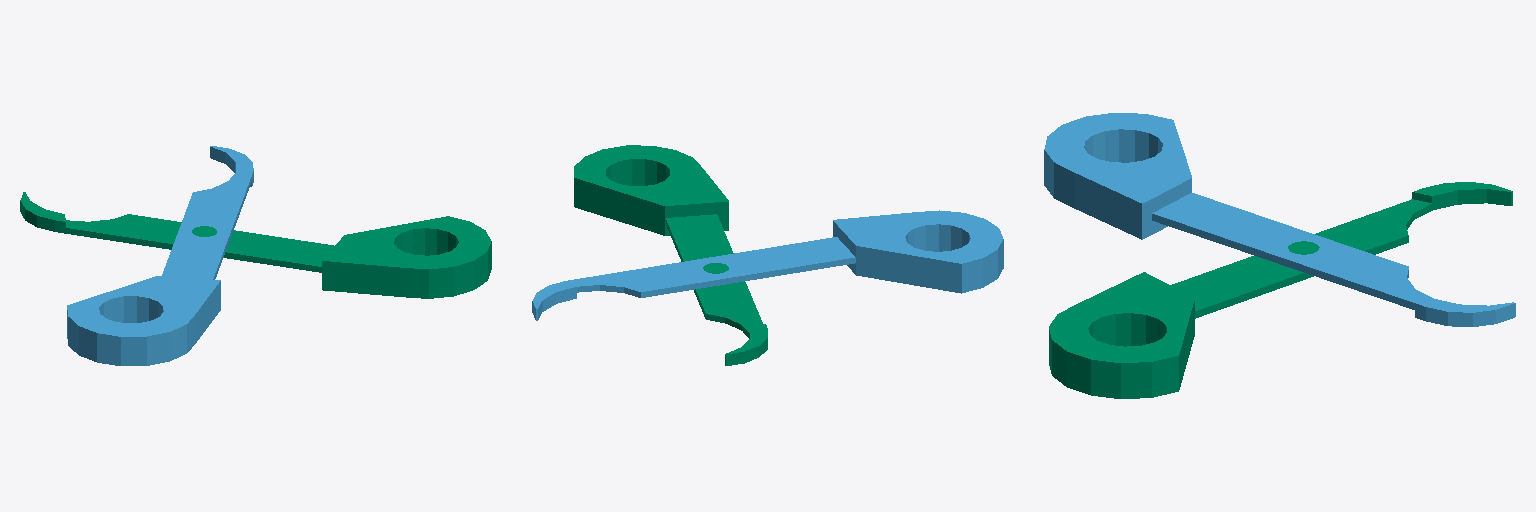
The robot description file, URDF, robot "partnet_u22479855-8ddc-49d6-8559-87b3746aff4b":
<?xml version="1.0" ?>
<robot name="partnet_u22479855-8ddc-49d6-8559-87b3746aff4b">
	<link name="base"/>
	<link name="link_0">
		<visual name="blade-4">
			<origin xyz="0.30940883502641064 -0.021692000329494476 0.0006198229184634085"/>
			<geometry>
				<mesh filename="textured_objs/original-7.obj"/>
			</geometry>
		</visual>
		<visual name="handle-5">
			<origin xyz="0.30940883502641064 -0.021692000329494476 0.0006198229184634085"/>
			<geometry>
				<mesh filename="textured_objs/original-4.obj"/>
			</geometry>
		</visual>
		<visual name="handle-5">
			<origin xyz="0.30940883502641064 -0.021692000329494476 0.0006198229184634085"/>
			<geometry>
				<mesh filename="textured_objs/original-5.obj"/>
			</geometry>
		</visual>
		<collision>
			<origin xyz="0.30940883502641064 -0.021692000329494476 0.0006198229184634085"/>
			<geometry>
				<mesh filename="textured_objs/original-7.obj"/>
			</geometry>
		</collision>
		<collision>
			<origin xyz="0.30940883502641064 -0.021692000329494476 0.0006198229184634085"/>
			<geometry>
				<mesh filename="textured_objs/original-4.obj"/>
			</geometry>
		</collision>
		<collision>
			<origin xyz="0.30940883502641064 -0.021692000329494476 0.0006198229184634085"/>
			<geometry>
				<mesh filename="textured_objs/original-5.obj"/>
			</geometry>
		</collision>
	</link>
	<joint name="joint_0" type="revolute">
		<origin xyz="-0.30940883502641064 0.021692000329494476 -0.0006198229184634085"/>
		<axis xyz="0 -1 0"/>
		<child link="link_0"/>
		<parent link="link_1"/>
		<limit lower="-0.8230972752405259" upper="-0.0"/>
	</joint>
	<link name="link_1">
		<visual name="screw-3">
			<origin xyz="0 0 0"/>
			<geometry>
				<mesh filename="textured_objs/original-1.obj"/>
			</geometry>
		</visual>
		<visual name="blade-6">
			<origin xyz="0 0 0"/>
			<geometry>
				<mesh filename="textured_objs/original-14.obj"/>
			</geometry>
		</visual>
		<visual name="handle-7">
			<origin xyz="0 0 0"/>
			<geometry>
				<mesh filename="textured_objs/original-11.obj"/>
			</geometry>
		</visual>
		<visual name="handle-7">
			<origin xyz="0 0 0"/>
			<geometry>
				<mesh filename="textured_objs/original-12.obj"/>
			</geometry>
		</visual>
		<collision>
			<origin xyz="0 0 0"/>
			<geometry>
				<mesh filename="textured_objs/original-1.obj"/>
			</geometry>
		</collision>
		<collision>
			<origin xyz="0 0 0"/>
			<geometry>
				<mesh filename="textured_objs/original-14.obj"/>
			</geometry>
		</collision>
		<collision>
			<origin xyz="0 0 0"/>
			<geometry>
				<mesh filename="textured_objs/original-11.obj"/>
			</geometry>
		</collision>
		<collision>
			<origin xyz="0 0 0"/>
			<geometry>
				<mesh filename="textured_objs/original-12.obj"/>
			</geometry>
		</collision>
	</link>
	<joint name="joint_1" type="fixed">
		<origin rpy="1.570796326794897 0 -1.570796326794897" xyz="0 0 0"/>
		<child link="link_1"/>
		<parent link="base"/>
	</joint>
</robot>

--- What the picture shows (computed from the rendered views, not written in the file) ---
Views: 3 orthographic renders of the robot side by side, from view 1: azimuth 30°, elevation 25°; view 2: azimuth 150°, elevation 25°; view 3: azimuth 270°, elevation 25°.
Model partnet_u22479855-8ddc-49d6-8559-87b3746aff4b with 3 links and 2 joints (1 revolute, 1 fixed), rooted at base, posed every joint at zero.
Links seen in each view (by area): view 1: link_1, link_0; view 2: link_0, link_1; view 3: link_0, link_1.
Link boxes in pixels (x1,y1,x2,y2): link_1: [20, 192, 491, 298]; link_0: [67, 146, 253, 365]; link_0: [532, 210, 1003, 320]; link_1: [574, 145, 767, 365]; link_0: [1044, 113, 1515, 326]; link_1: [1049, 182, 1512, 398].
Bounding box of the posed robot: 1.7 × 1.39 × 0.1404 m (x, y, z).
7 mesh visuals loaded from 7 distinct referenced files (7 OBJ).